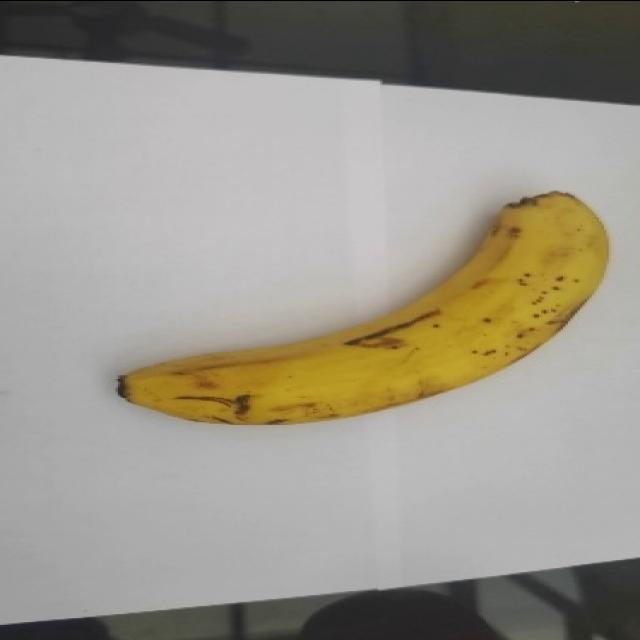Banana: (116, 189, 609, 426)
